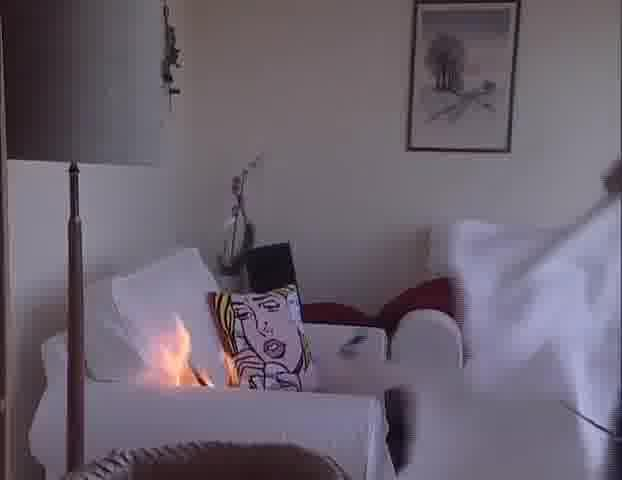fire: (157, 324, 198, 396)
